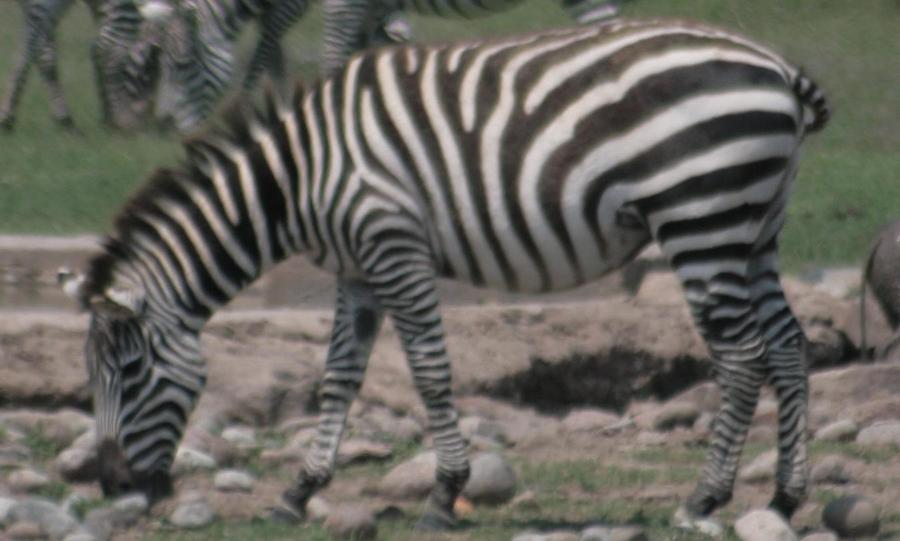zebra_plains: (268, 0, 813, 321)
